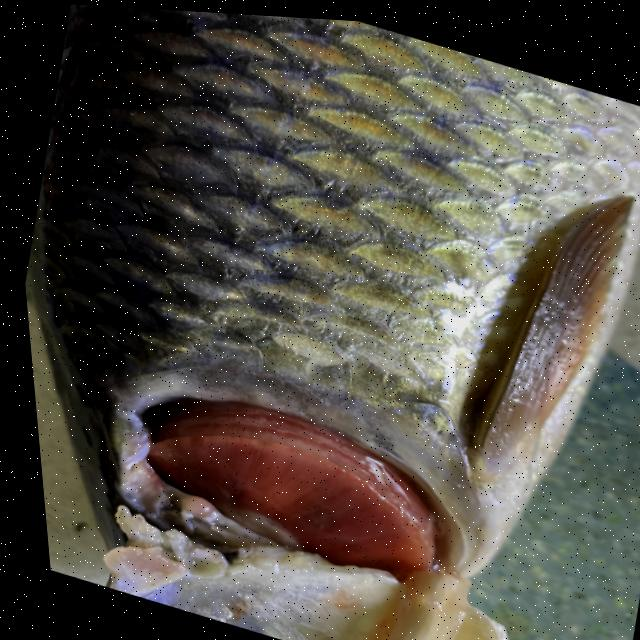Fresh: (4, 0, 570, 403), (91, 352, 527, 601)
